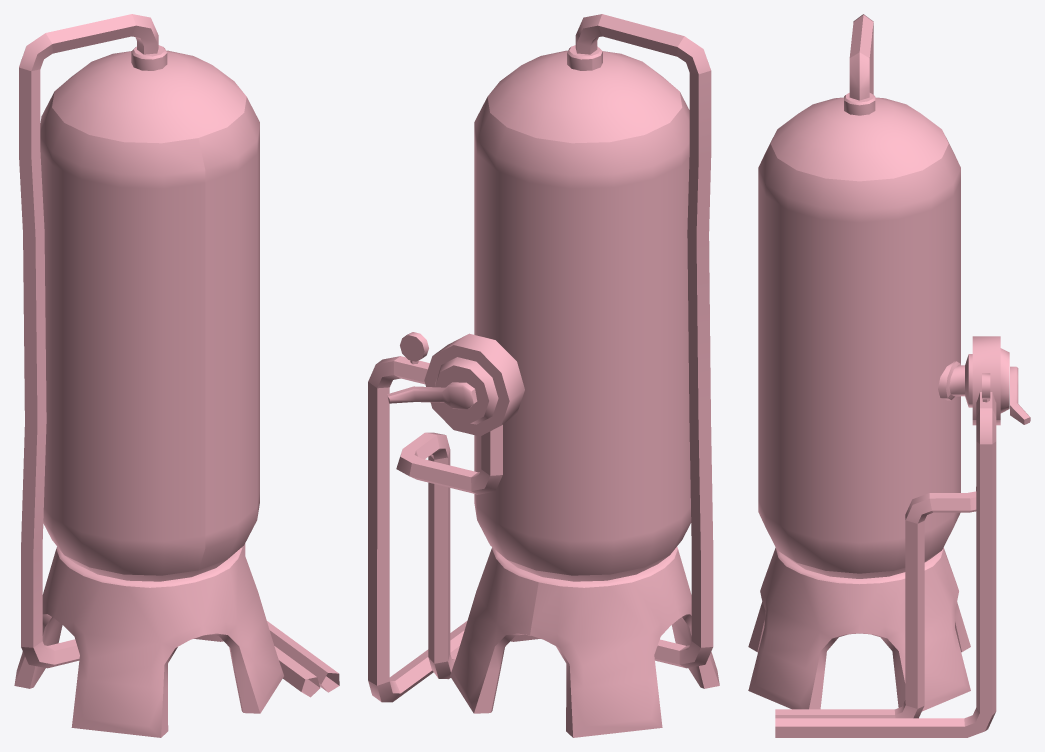
The model's file is boiler2.fbx.
3 views of the same model, side by side, from view 1: azimuth 30°, elevation 25°; view 2: azimuth 150°, elevation 25°; view 3: azimuth 270°, elevation 25° (orthographic). The views are drawn at different scales.
Parts seen in each view (by area): view 1: AA_Boilers-WaterSoftener_NK_SMesh; view 2: AA_Boilers-WaterSoftener_NK_SMesh; view 3: AA_Boilers-WaterSoftener_NK_SMesh.
Boxes of the visible parts, bbox=[...] form: AA_Boilers-WaterSoftener_NK_SMesh: bbox=[14, 14, 339, 737]; AA_Boilers-WaterSoftener_NK_SMesh: bbox=[368, 14, 719, 737]; AA_Boilers-WaterSoftener_NK_SMesh: bbox=[748, 14, 1030, 737].
Bounding box in the file's own units: 777 × 1859 × 769.
